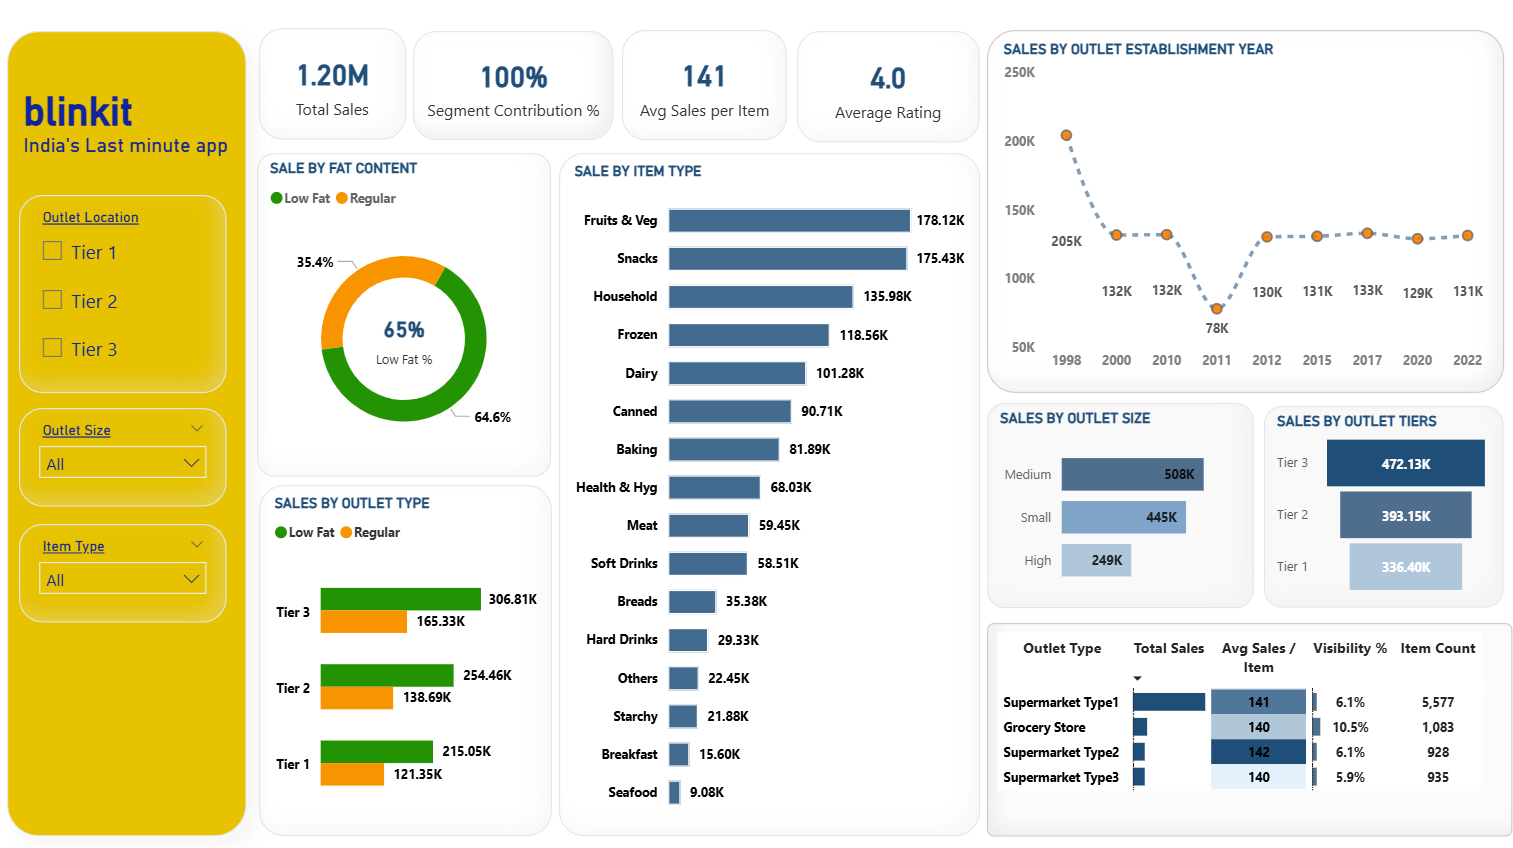

Layout of this report page (visuals, bound fields, positions):
{"tool":"powerbi","page":{"name":"Page 1","canvas":[1280,720],"ordinal":0},"visuals":[{"type":"card","title":"Total Sales","fields":{"Values":["blinkit_db blinkit_final.Total Sales"]},"box":[218.8,28.2,123.5,94.3],"z":0},{"type":"card","title":"Total Sales","fields":{"Values":["Sales_By_ItemType.Test %"]},"box":[349.2,30.2,169.2,92.4],"z":1000},{"type":"card","title":"Total Sales","fields":{"Values":["blinkit_db blinkit_final.Average Rating"]},"box":[673.1,30.2,153.7,94.3],"z":2000},{"type":"card","fields":{"Values":["Sales_By_ItemType.Avg Sales per Item"]},"box":[525.2,29.2,139.1,93.4],"z":3000},{"type":"donutChart","title":"SALE BY FAT CONTENT","fields":{"Y":["blinkit_db blinkit_final.Total Sales"],"Category":["blinkit_db blinkit_final.item_fat_content"]},"box":[217.6,133.3,247.6,272.9],"z":4000},{"type":"barChart","title":"SALE BY ITEM TYPE","fields":{"Y":["blinkit_db blinkit_final.Total Sales"],"Category":["itemtype_mapping.Updated_item_type"]},"box":[472.4,133.3,354.6,575.8],"z":5000},{"type":"clusteredBarChart","title":"SALES BY OUTLET TYPE","fields":{"Category":["blinkit_db blinkit_final.outlet_location_type"],"Y":["Sum(blinkit_db blinkit_final.total_sales)"],"Series":["blinkit_db blinkit_final.item_fat_content"]},"box":[218.8,413.4,247.1,295.7],"z":6000},{"type":"textbox","title":"Blinkit Dashboard","box":[7,30.2,202.3,678.9],"z":7000},{"type":"stackedAreaChart","title":"SALES BY OUTLET ESTABLISHMENT YEAR","fields":{"Category":["blinkit_db blinkit_final.outlet_establishment_year"],"Y":["blinkit_db blinkit_final.Total Sales"]},"box":[833.4,29.9,436.2,305.6],"z":8000},{"type":"clusteredBarChart","title":"SALES BY OUTLET SIZE","fields":{"Category":["blinkit_db blinkit_final.outlet_size"],"Y":["blinkit_db blinkit_final.Total Sales"]},"box":[833.4,343.7,224.9,173.2],"z":9000},{"type":"funnel","title":"SALES BY OUTLET TIERS","fields":{"Y":["Sum(blinkit_db blinkit_final.total_sales)"],"Category":["blinkit_db blinkit_final.outlet_location_type"]},"box":[1066.4,346.4,202.2,170.5],"z":10000},{"type":"tableEx","fields":{"Values":["blinkit_db blinkit_final.outlet_type","blinkit_db blinkit_final.Total Sales","blinkit_db blinkit_final.Average Sales","Sales_By_ItemType.Visibility_CF","blinkit_db blinkit_final.Number Of Items"]},"box":[833.4,529.6,442.5,179.5],"z":11000},{"type":"slicer","fields":{"Values":["blinkit_db blinkit_final.outlet_location_type"]},"box":[17.2,168.7,175,166.9],"z":12000},{"type":"slicer","fields":{"Values":["blinkit_db blinkit_final.item_type"]},"box":[17.2,446.1,175,83.4],"z":13000},{"type":"slicer","fields":{"Values":["blinkit_db blinkit_final.outlet_size"]},"box":[17.2,348.2,175,83.4],"z":14000},{"type":"card","title":"Total Sales","fields":{"Values":["Sales_By_ItemType.Low Fat %"]},"box":[305.6,252.1,72.5,75.3],"z":15000}]}

Visuals, with their boxes in screenshot pixels (x1, y1, x2, y2), scaled from the page's 1280x720 canvas onto the 1513x848 screenshot:
"Total Sales" card: x1=259, y1=33, x2=405, y2=144
"Total Sales" card: x1=413, y1=36, x2=613, y2=144
"Total Sales" card: x1=796, y1=36, x2=977, y2=147
card - Sales_By_ItemType.Avg Sales per Item: x1=621, y1=34, x2=785, y2=144
"SALE BY FAT CONTENT" donutChart: x1=257, y1=157, x2=550, y2=478
"SALE BY ITEM TYPE" barChart: x1=558, y1=157, x2=978, y2=835
"SALES BY OUTLET TYPE" clusteredBarChart: x1=259, y1=487, x2=551, y2=835
"Blinkit Dashboard" textbox: x1=8, y1=36, x2=247, y2=835
"SALES BY OUTLET ESTABLISHMENT YEAR" stackedAreaChart: x1=985, y1=35, x2=1501, y2=395
"SALES BY OUTLET SIZE" clusteredBarChart: x1=985, y1=405, x2=1251, y2=609
"SALES BY OUTLET TIERS" funnel: x1=1261, y1=408, x2=1500, y2=609
tableEx - blinkit_db blinkit_final.outlet_type x blinkit_db blinkit_final.Total Sales: x1=985, y1=624, x2=1508, y2=835
slicer - blinkit_db blinkit_final.outlet_location_type: x1=20, y1=199, x2=227, y2=395
slicer - blinkit_db blinkit_final.item_type: x1=20, y1=525, x2=227, y2=624
slicer - blinkit_db blinkit_final.outlet_size: x1=20, y1=410, x2=227, y2=508
"Total Sales" card: x1=361, y1=297, x2=447, y2=386
